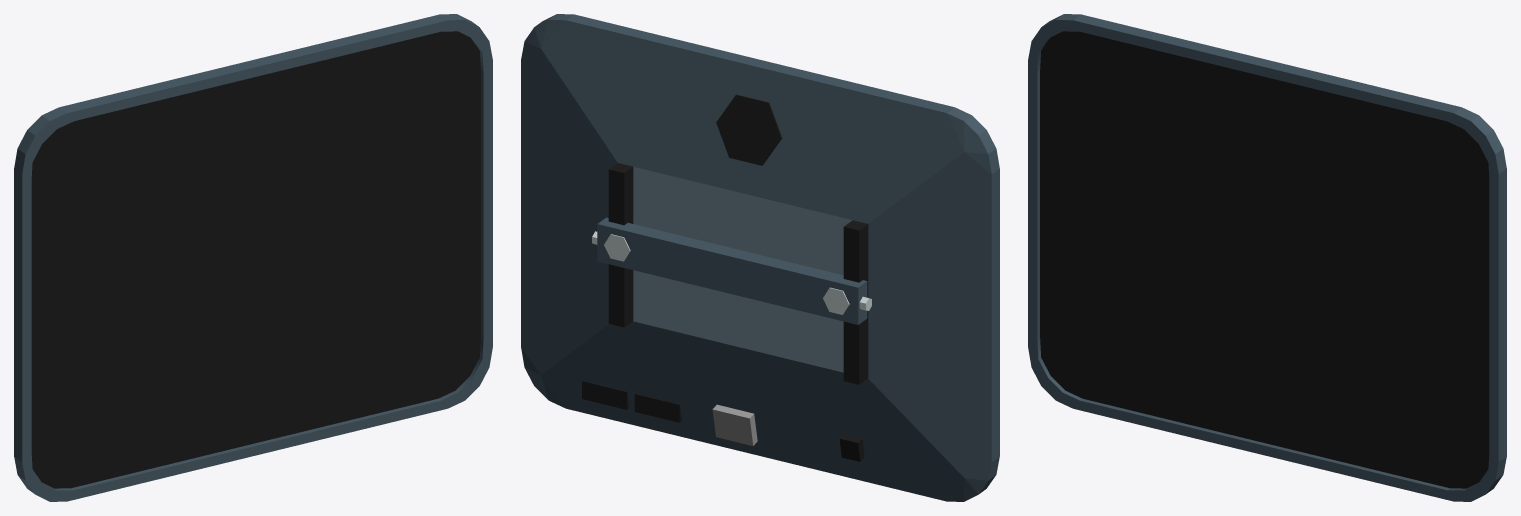
The picture shows the model from 3 angles, left to right: view 1: azimuth 30°, elevation 25°; view 2: azimuth 150°, elevation 25°; view 3: azimuth 330°, elevation 25°; orthographic projection.
Visible parts, largest first — view 1: TV; view 2: TV; view 3: TV.
Part boxes in pixels (box(x1,y1,x2,y2)): TV: box(14, 14, 492, 501); TV: box(521, 14, 999, 501); TV: box(1028, 14, 1506, 501).
Size of the model in its own units: 1.95 by 1.54 by 0.2618.
